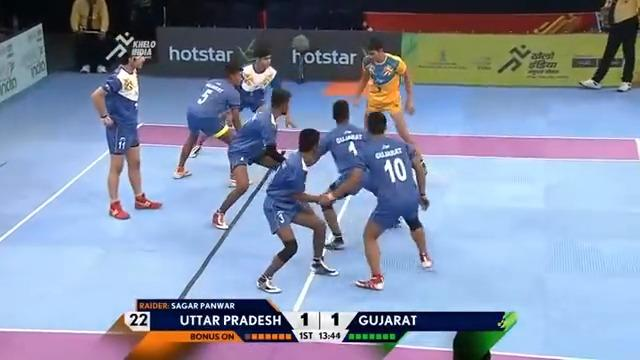Player: (320, 110, 433, 290), (255, 127, 340, 293), (90, 37, 163, 220), (211, 87, 297, 229), (305, 99, 367, 250), (172, 60, 245, 183), (226, 38, 282, 187)
Raider: (352, 37, 428, 174)
referee: (578, 0, 639, 92), (69, 0, 110, 72), (69, 0, 109, 35)
